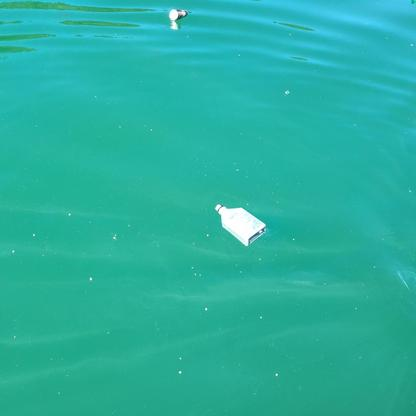can: (169, 8, 190, 23)
plastic bottle: (213, 199, 268, 246)
